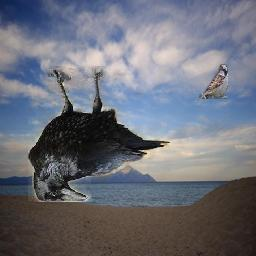Crow: (28, 66, 170, 202)
Sparrow: (200, 65, 229, 100)
